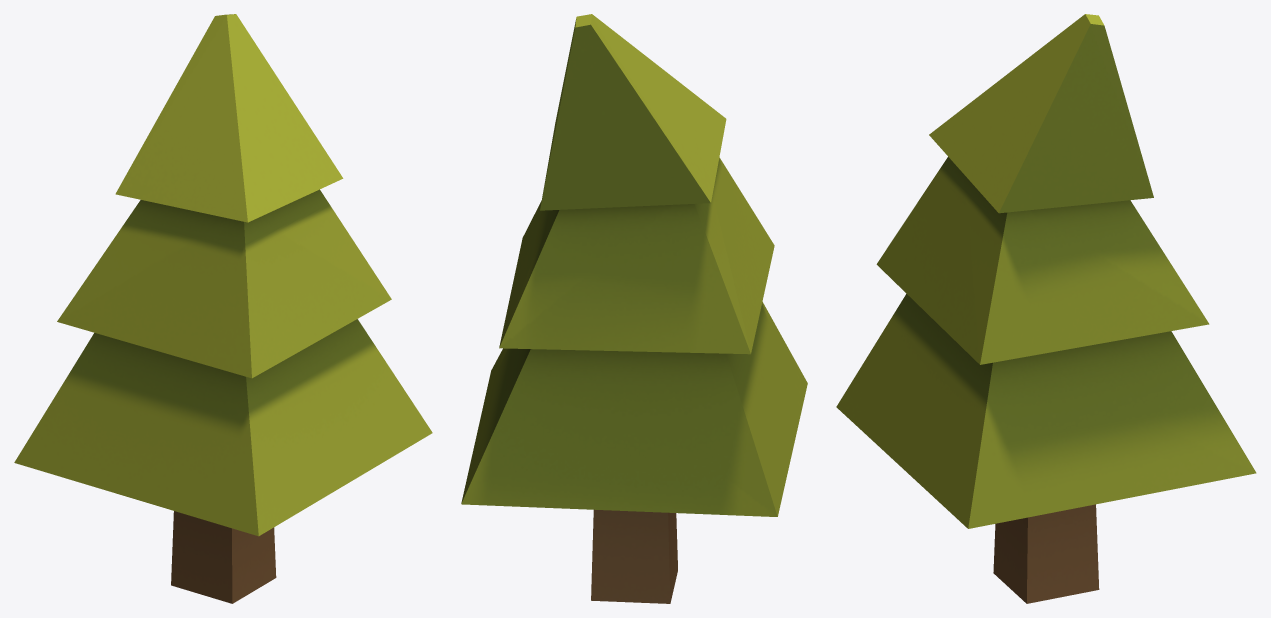
Rendered from Pine.gltf.
The picture shows the model from 3 angles, left to right: view 1: azimuth 30°, elevation 25°; view 2: azimuth 150°, elevation 25°; view 3: azimuth 270°, elevation 25°; orthographic projection. The views are drawn at different scales.
Visible parts, largest first — view 1: pine_tree; view 2: pine_tree; view 3: pine_tree.
Boxes of the visible parts, x1,y1,x2,y2 form: pine_tree: (14, 14, 432, 603); pine_tree: (461, 14, 807, 603); pine_tree: (836, 14, 1256, 603).
Size of the model in its own units: 1.23 by 1.86 by 1.23.
1 material, 1 textured.
